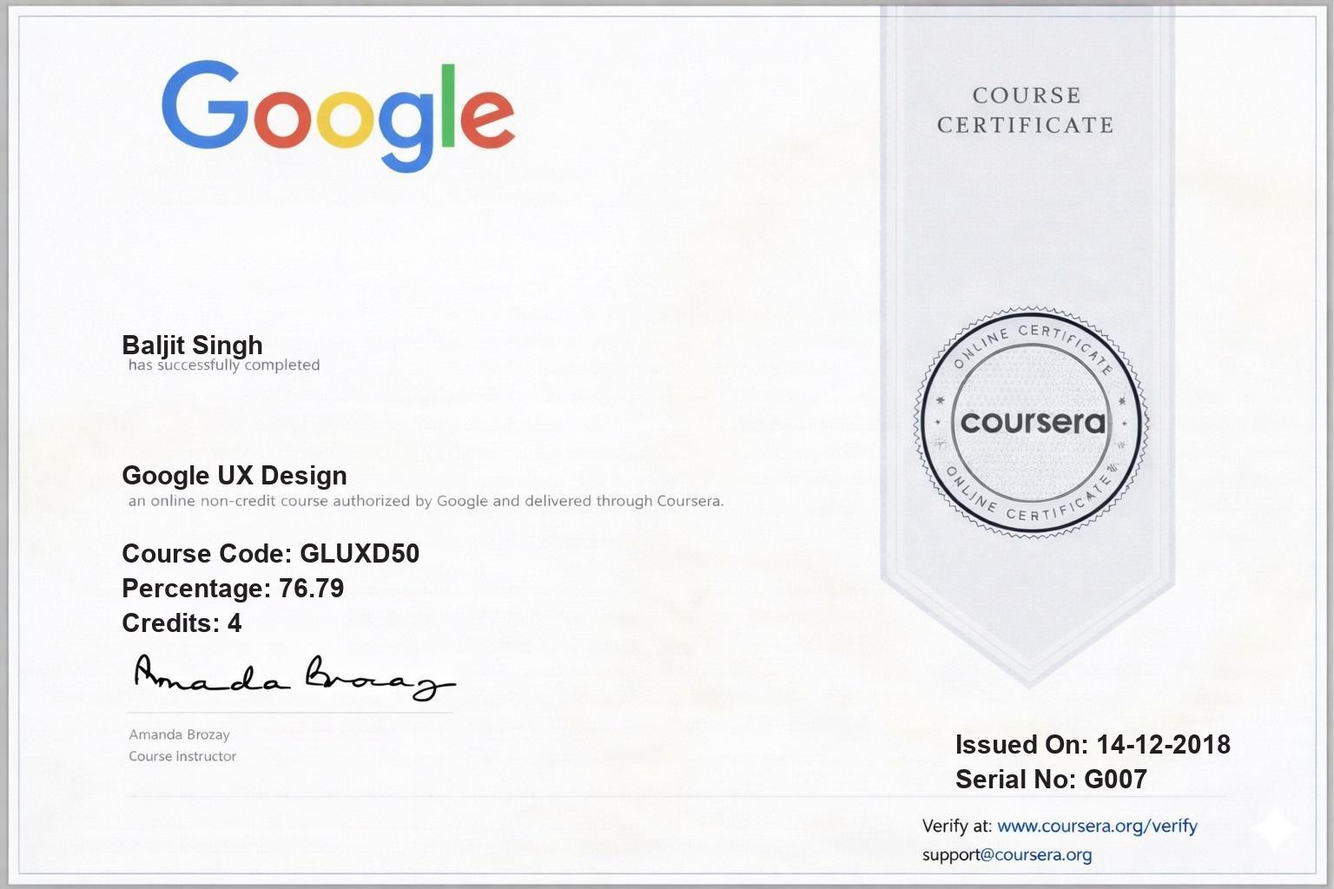Course Code: (298, 530, 433, 570)
Course Name: (119, 452, 358, 495)
Credits: (220, 608, 257, 645)
Issued On: (1094, 718, 1240, 764)
Percentage: (276, 568, 352, 609)
Serial No: (1078, 762, 1152, 805)
Student Name: (114, 317, 273, 362)
